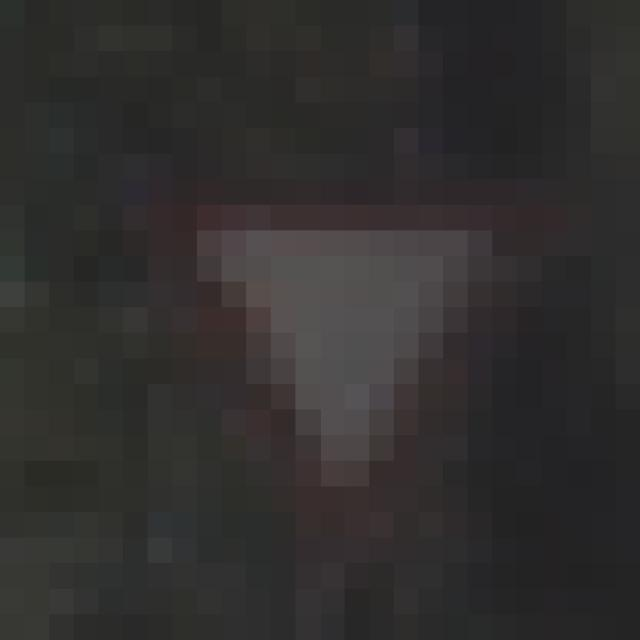Give Way: (124, 129, 493, 513)
